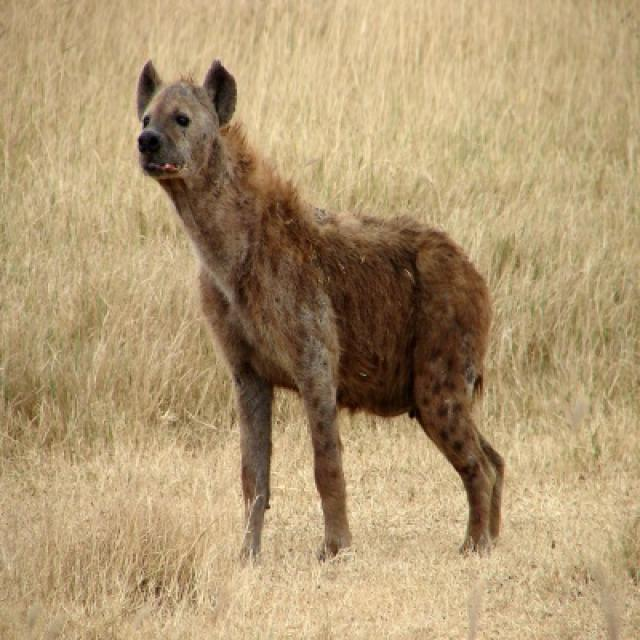hyena: (134, 56, 509, 566)
